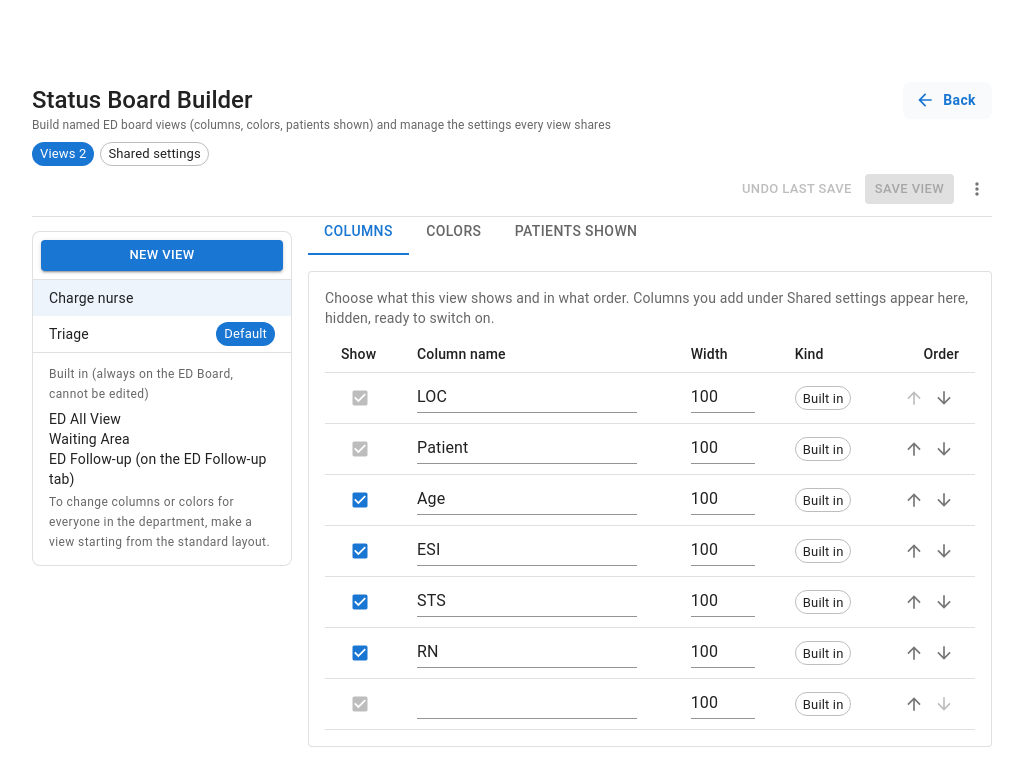
undo puts back the layout from before the last save
This screenshot has width=1024, height=768.
Later steps or results of the test are not shown.
Check: the button with test id "view-item-1" is shown, box [33,280,291,316]
Check: the button "Undo last save" is disabled, box [737,174,857,204]
Click the button with test id "view-item-2" at (69,334), box [33,316,291,352]
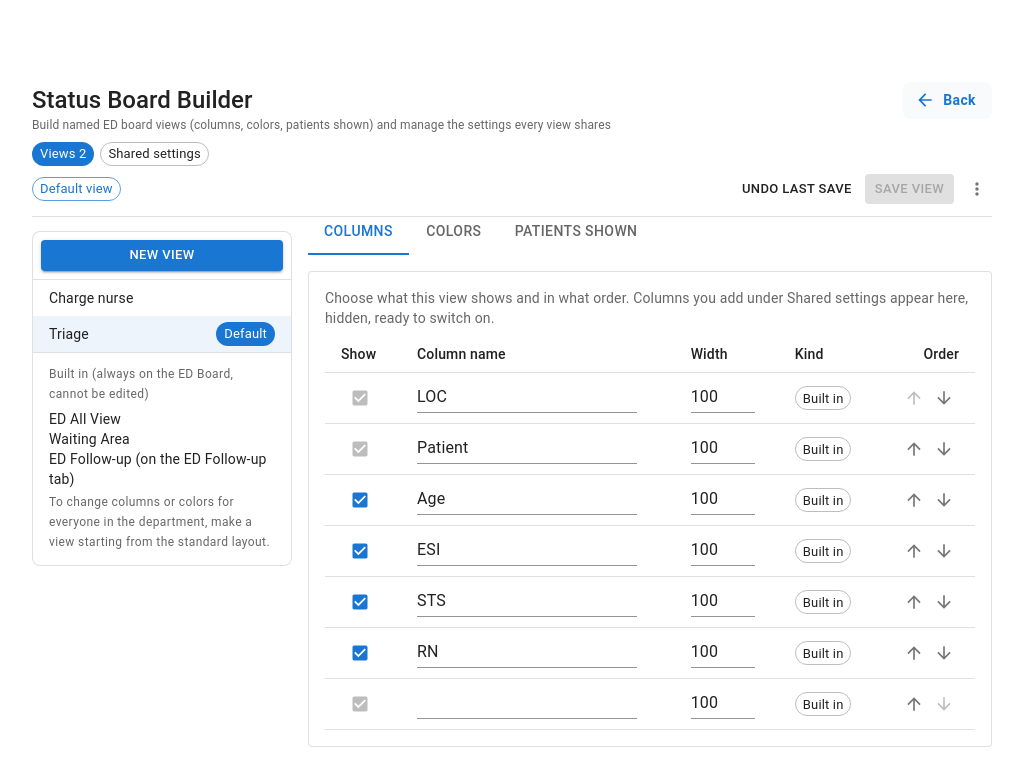
Check: the button "Undo last save" is enabled, box [737,174,857,204]
